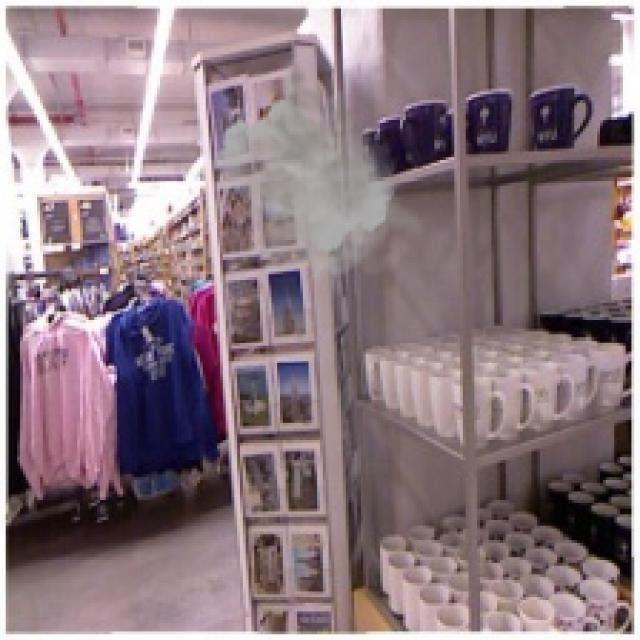Smoke: (211, 54, 426, 283)
